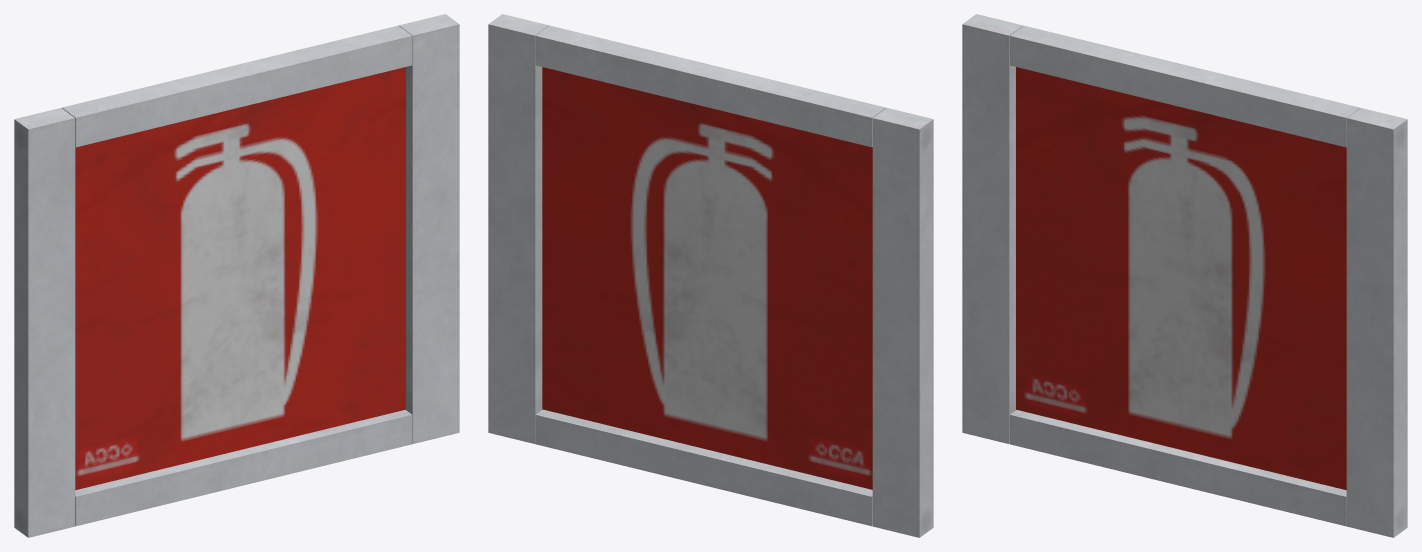
The model's file is SM_Sign_Fire_Extinguisher_01a.fbx.
The picture shows the model from 3 angles, left to right: view 1: azimuth 30°, elevation 25°; view 2: azimuth 150°, elevation 25°; view 3: azimuth 330°, elevation 25°; orthographic projection.
Parts seen in each view (by area): view 1: SM_Sign_Fire_Extinguisher_01a; view 2: SM_Sign_Fire_Extinguisher_01a; view 3: SM_Sign_Fire_Extinguisher_01a.
Boxes of the visible parts, x1,y1,x2,y2 form: SM_Sign_Fire_Extinguisher_01a: (14, 14, 459, 537); SM_Sign_Fire_Extinguisher_01a: (488, 14, 933, 537); SM_Sign_Fire_Extinguisher_01a: (962, 14, 1407, 537).
Size of the model in its own units: 44.2 by 2.5 by 40.
Materials: 1 (1 with a texture image).
